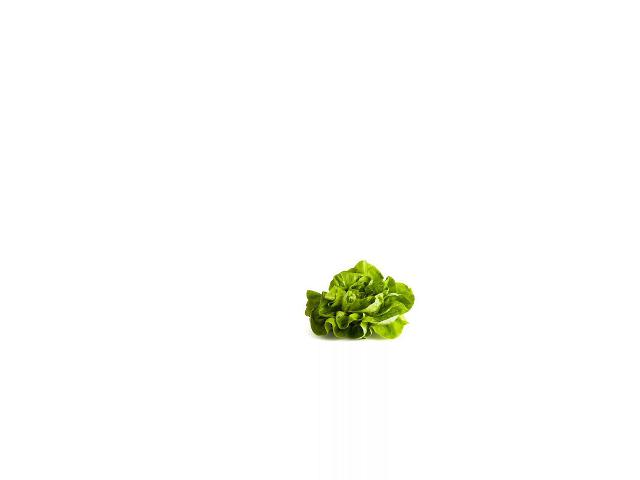lettuce: (303, 261, 418, 340)
